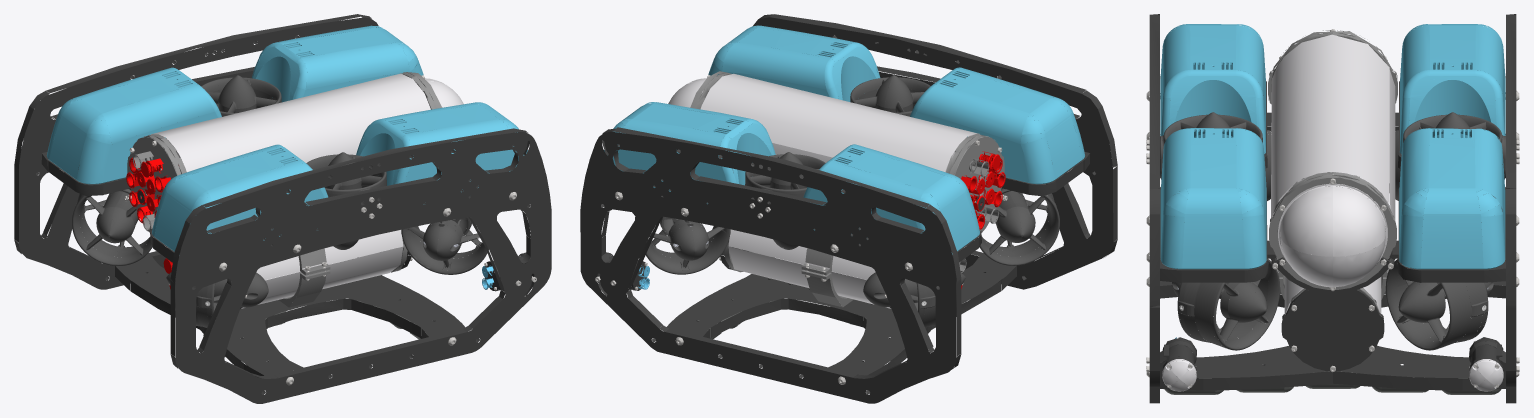
Rendered from bluerov2_noprop.glb.
The picture shows the model from 3 angles, left to right: view 1: azimuth 30°, elevation 25°; view 2: azimuth 150°, elevation 25°; view 3: azimuth 270°, elevation 25°; orthographic projection. The views are drawn at different scales.
Visible parts, largest first — view 1: Frame_001, Frame_006, Tank_4_, Untitled_011, Frame, Untitled_012, Untitled_010, Untitled_009, Tank_3_, Untitled_216, Untitled_180, Untitled_365 (+11 smaller); view 2: Frame_006, Frame_001, Tank_4_, Untitled_010, Frame, Untitled_009, Untitled_011, Untitled_012, Tank_3_, Untitled_217, Untitled_215, Untitled_117 (+10 smaller); view 3: Tank_4_, Untitled_009, Untitled_012, Untitled_011, Untitled_010, Frame, Untitled_354, Untitled_468, Untitled_117, Untitled_365, Frame_006, Frame_001 (+15 smaller).
Boxes of the visible parts, x1=… form: Frame_001: x1=170, y1=128, x2=551, y2=403; Frame_006: x1=14, y1=14, x2=378, y2=289; Tank_4_: x1=151, y1=73, x2=430, y2=172; Untitled_011: x1=46, y1=67, x2=221, y2=184; Frame: x1=115, y1=256, x2=465, y2=379; Untitled_012: x1=252, y1=25, x2=423, y2=102; Untitled_010: x1=152, y1=144, x2=328, y2=251; Untitled_009: x1=356, y1=102, x2=527, y2=204; Tank_3_: x1=241, y1=230, x2=403, y2=308; Untitled_216: x1=72, y1=178, x2=152, y2=265; Untitled_180: x1=201, y1=75, x2=281, y2=116; Untitled_365: x1=401, y1=217, x2=496, y2=274; Frame_006: x1=580, y1=127, x2=961, y2=403; Frame_001: x1=753, y1=14, x2=1117, y2=289; Tank_4_: x1=700, y1=73, x2=980, y2=172; Untitled_010: x1=910, y1=67, x2=1084, y2=184; Frame: x1=667, y1=256, x2=1016, y2=379; Untitled_009: x1=708, y1=25, x2=880, y2=101; Untitled_011: x1=803, y1=144, x2=979, y2=254; Untitled_012: x1=604, y1=102, x2=775, y2=204; Tank_3_: x1=728, y1=229, x2=890, y2=308; Untitled_217: x1=979, y1=178, x2=1059, y2=265; Untitled_215: x1=850, y1=75, x2=930, y2=116; Untitled_117: x1=635, y1=216, x2=730, y2=274; Tank_4_: x1=1271, y1=34, x2=1395, y2=256; Untitled_009: x1=1160, y1=128, x2=1266, y2=269; Untitled_012: x1=1399, y1=128, x2=1505, y2=269; Untitled_011: x1=1399, y1=24, x2=1505, y2=153; Untitled_010: x1=1160, y1=24, x2=1265, y2=154; Frame: x1=1160, y1=281, x2=1505, y2=390; Untitled_354: x1=1278, y1=183, x2=1387, y2=287; Untitled_468: x1=1281, y1=289, x2=1384, y2=371; Untitled_117: x1=1385, y1=258, x2=1488, y2=350; Untitled_365: x1=1177, y1=258, x2=1280, y2=350; Frame_006: x1=1506, y1=14, x2=1516, y2=403; Frame_001: x1=1149, y1=14, x2=1159, y2=403.
Bounding box in the file's own units: 0.4576 × 0.2552 × 0.3442.
